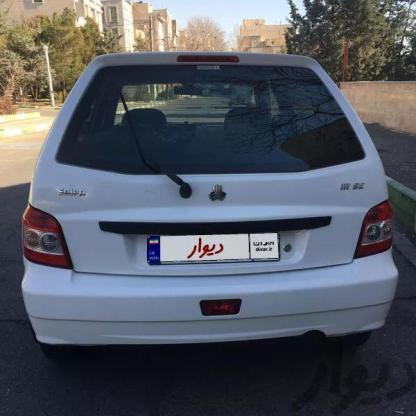Car: (0, 51, 393, 362)
